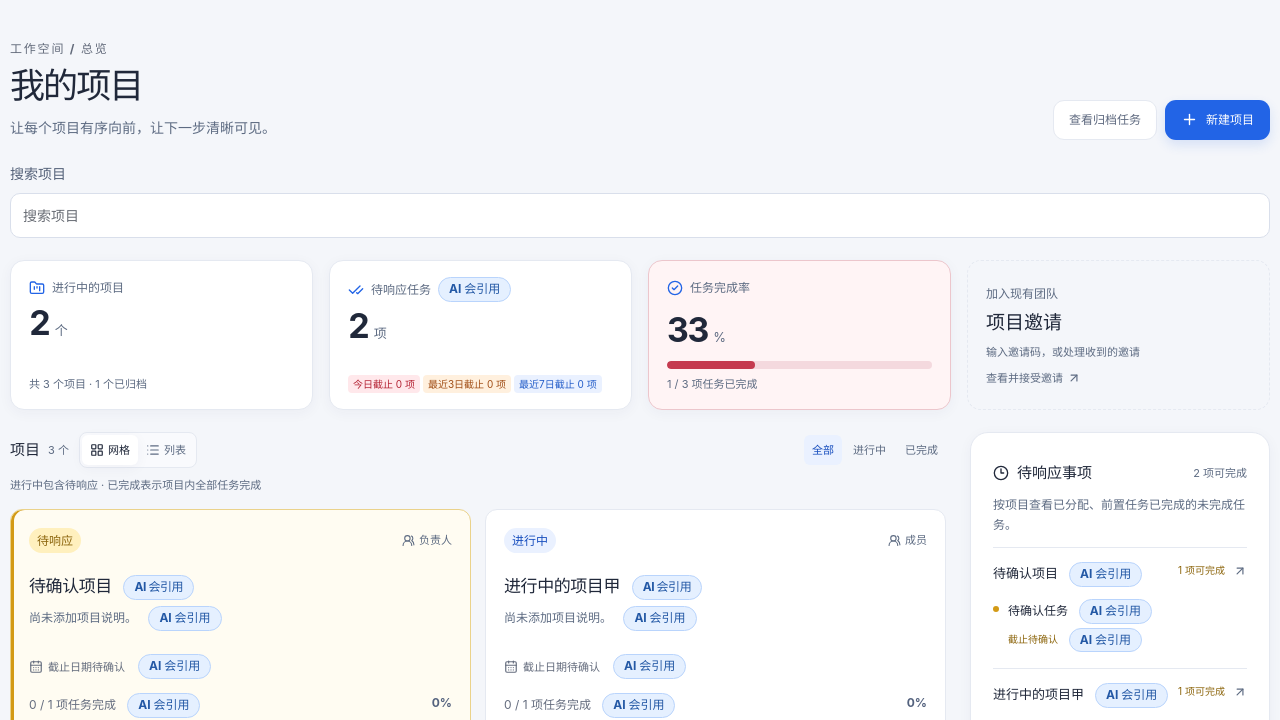
Test: dashboard interactions › includes pending in active, excludes archive from main list and filters completed
The width and height of the screenshot is (1280, 720).
What coordinates should you click on to do the following:
click the button "进行中"
I would click on:
 (870, 450)
Its box is x1=845 y1=435 x2=894 y2=465.
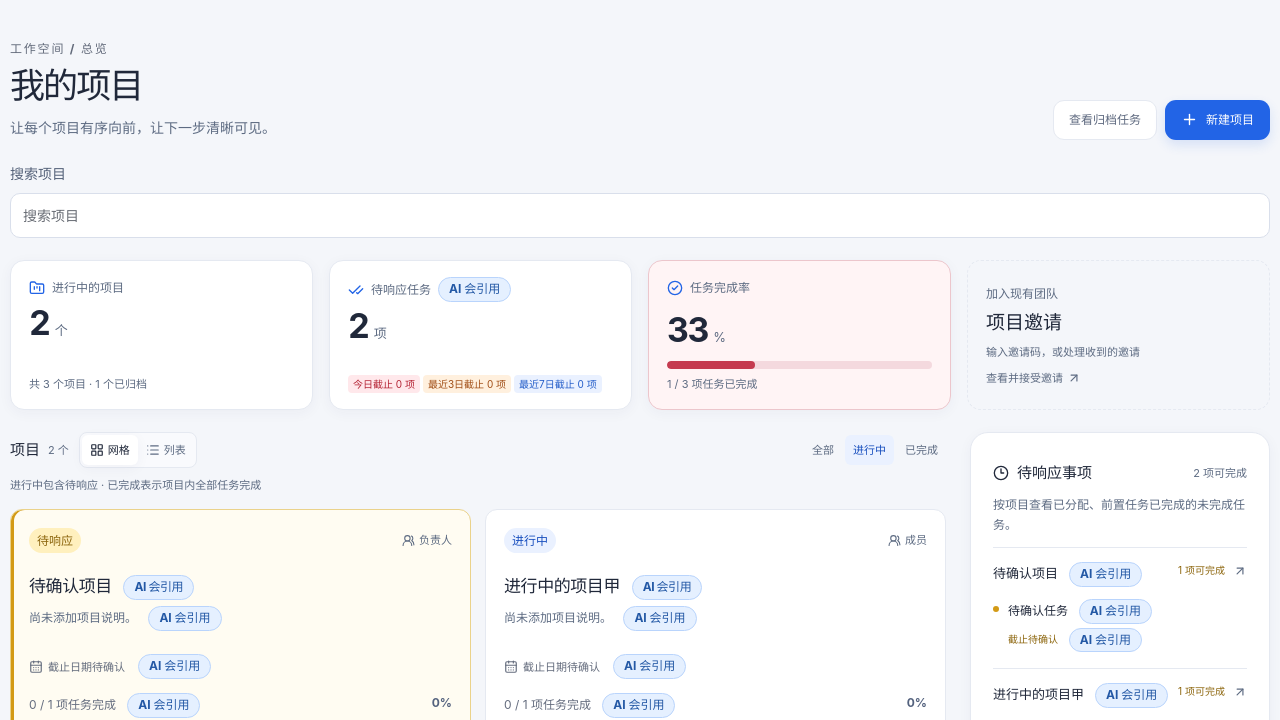
Expected: the heading "待确认项目" is shown, x1=29 y1=575 x2=194 y2=600
Expected: the text "已完成项目甲" is not shown
What coordinates should you click on to do the following:
click the button "已完成"
I would click on:
 (922, 450)
Its box is x1=897 y1=435 x2=946 y2=465.
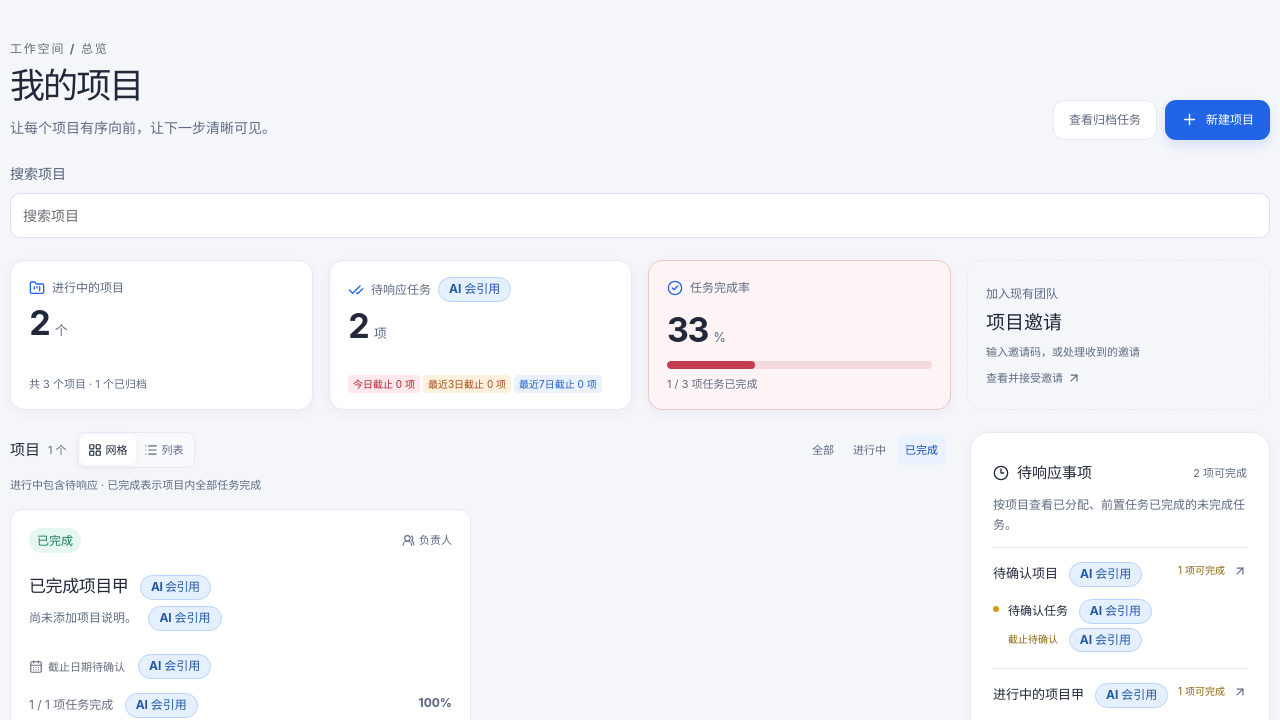
Expected: the heading "已完成项目甲" is shown, x1=29 y1=575 x2=211 y2=600
